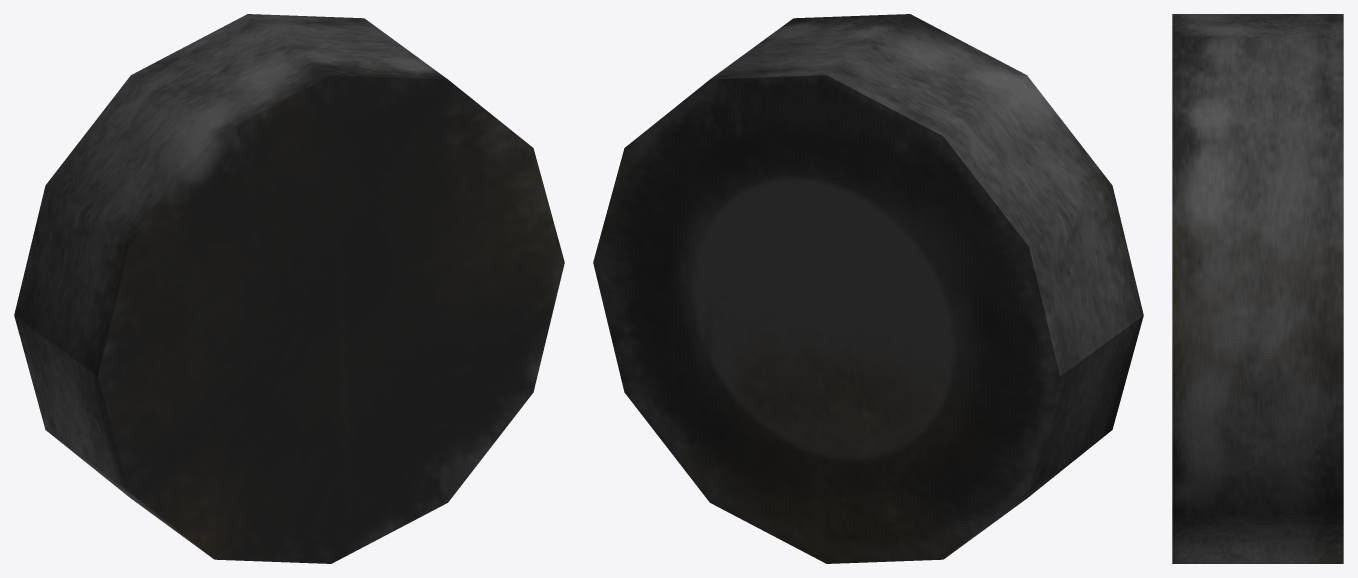
File: back_wheel_left.dae
The picture shows the model from 3 angles, left to right: view 1: azimuth 30°, elevation 25°; view 2: azimuth 150°, elevation 25°; view 3: azimuth 270°, elevation 25°; orthographic projection. The views are drawn at different scales.
Visible parts, largest first — view 1: back_wheel_left; view 2: back_wheel_left; view 3: back_wheel_left.
Boxes of the visible parts, <box> form: back_wheel_left: <box>14,14,564,563</box>; back_wheel_left: <box>593,14,1143,563</box>; back_wheel_left: <box>1172,14,1343,563</box>.
Bounding box in the file's own units: 52.1 × 16.16 × 52.1.
Materials: 1 (1 with a texture image).
